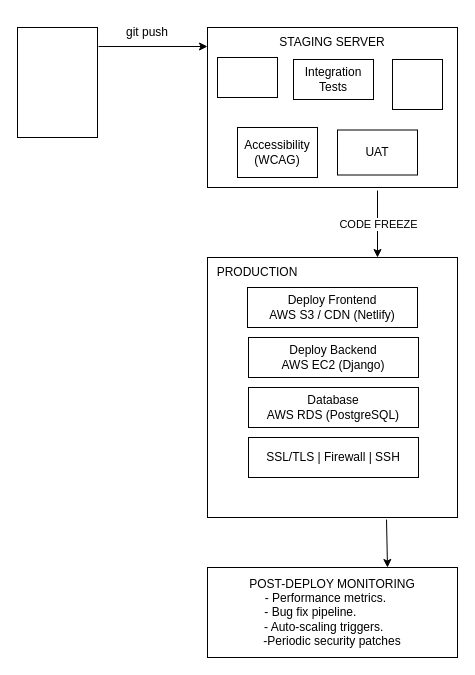
Some shapes in this 475 by 675 pixel diagram are drawn without their labels. The centre of each missing label's shape, as x and y in pixels:
Load Tests: pixel 417 84
LOCAL DEV (Docker) pip/npm install: pixel 57 82
Unit Tests: pixel 247 77
